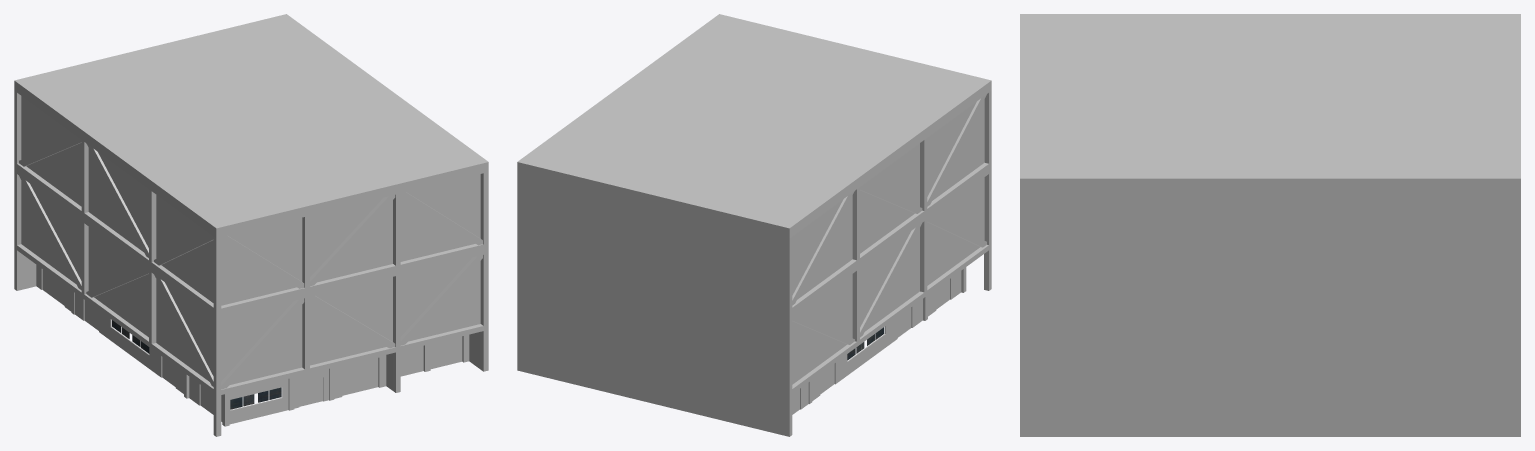
3 renders of one model, left to right at view 1: azimuth 30°, elevation 25°; view 2: azimuth 150°, elevation 25°; view 3: azimuth 270°, elevation 25°, orthographic. The views are drawn at different scales.
Visible parts, largest first — view 1: EB-023; view 2: EB-023; view 3: EB-023.
Part boxes in pixels (x1,y1,x2,y2): EB-023: [14, 14, 488, 436]; EB-023: [517, 14, 991, 436]; EB-023: [1020, 14, 1520, 436].
Size of what is drawn, in the model's own units: 28.01 by 20.49 by 36.
